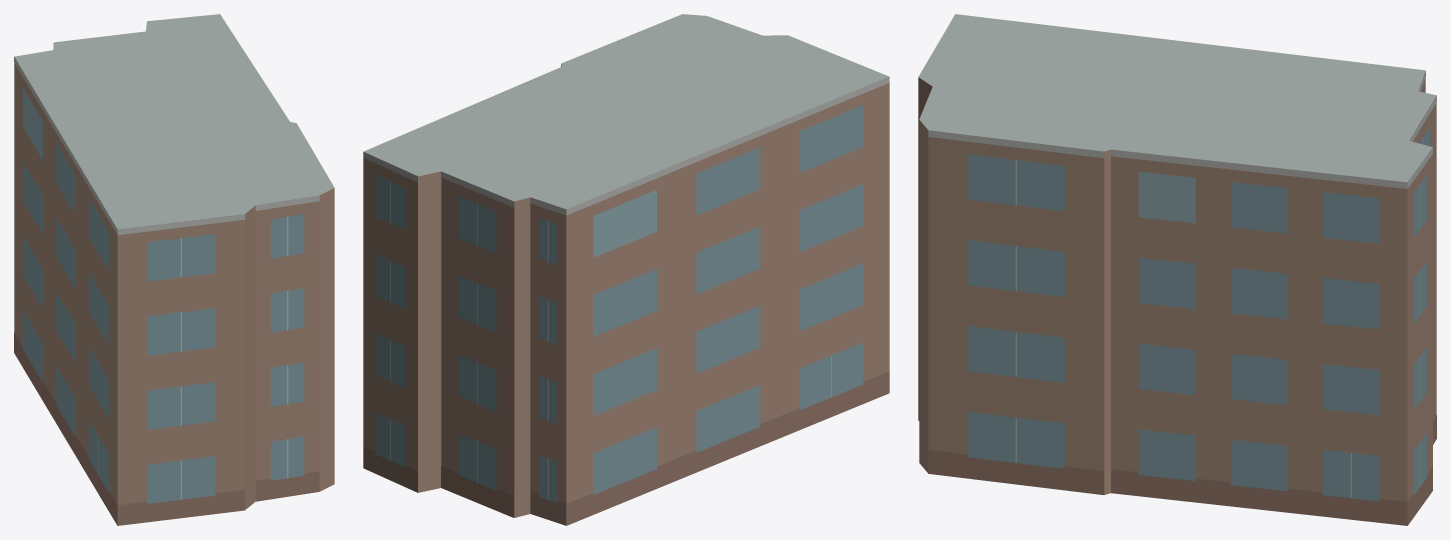
Rendered from survey-upis-32686282.glb.
3 views of the same model, side by side, from view 1: azimuth 30°, elevation 25°; view 2: azimuth 150°, elevation 25°; view 3: azimuth 270°, elevation 25° (orthographic). The views are drawn at different scales.
Visible parts, largest first — view 1: survey-upis-32686282.tmp; view 2: survey-upis-32686282.tmp; view 3: survey-upis-32686282.tmp.
Part boxes in pixels (x1,y1,x2,y2): survey-upis-32686282.tmp: (14, 14, 334, 525); survey-upis-32686282.tmp: (363, 14, 889, 525); survey-upis-32686282.tmp: (918, 14, 1436, 525).
Size of the model in its own units: 13.25 by 12.6 by 17.24.
